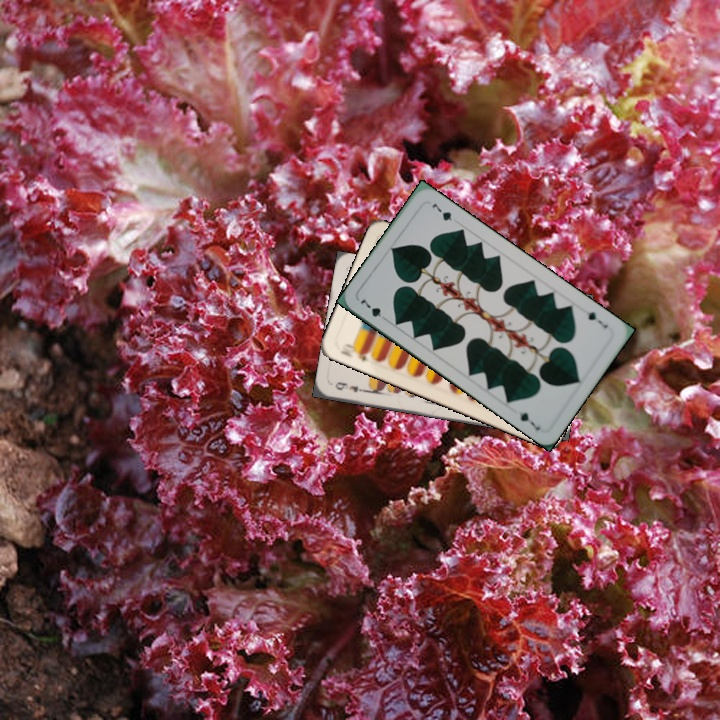E10: (336, 339, 373, 364)
E9: (331, 378, 369, 395)
G7: (356, 295, 391, 324), (583, 307, 611, 331)
